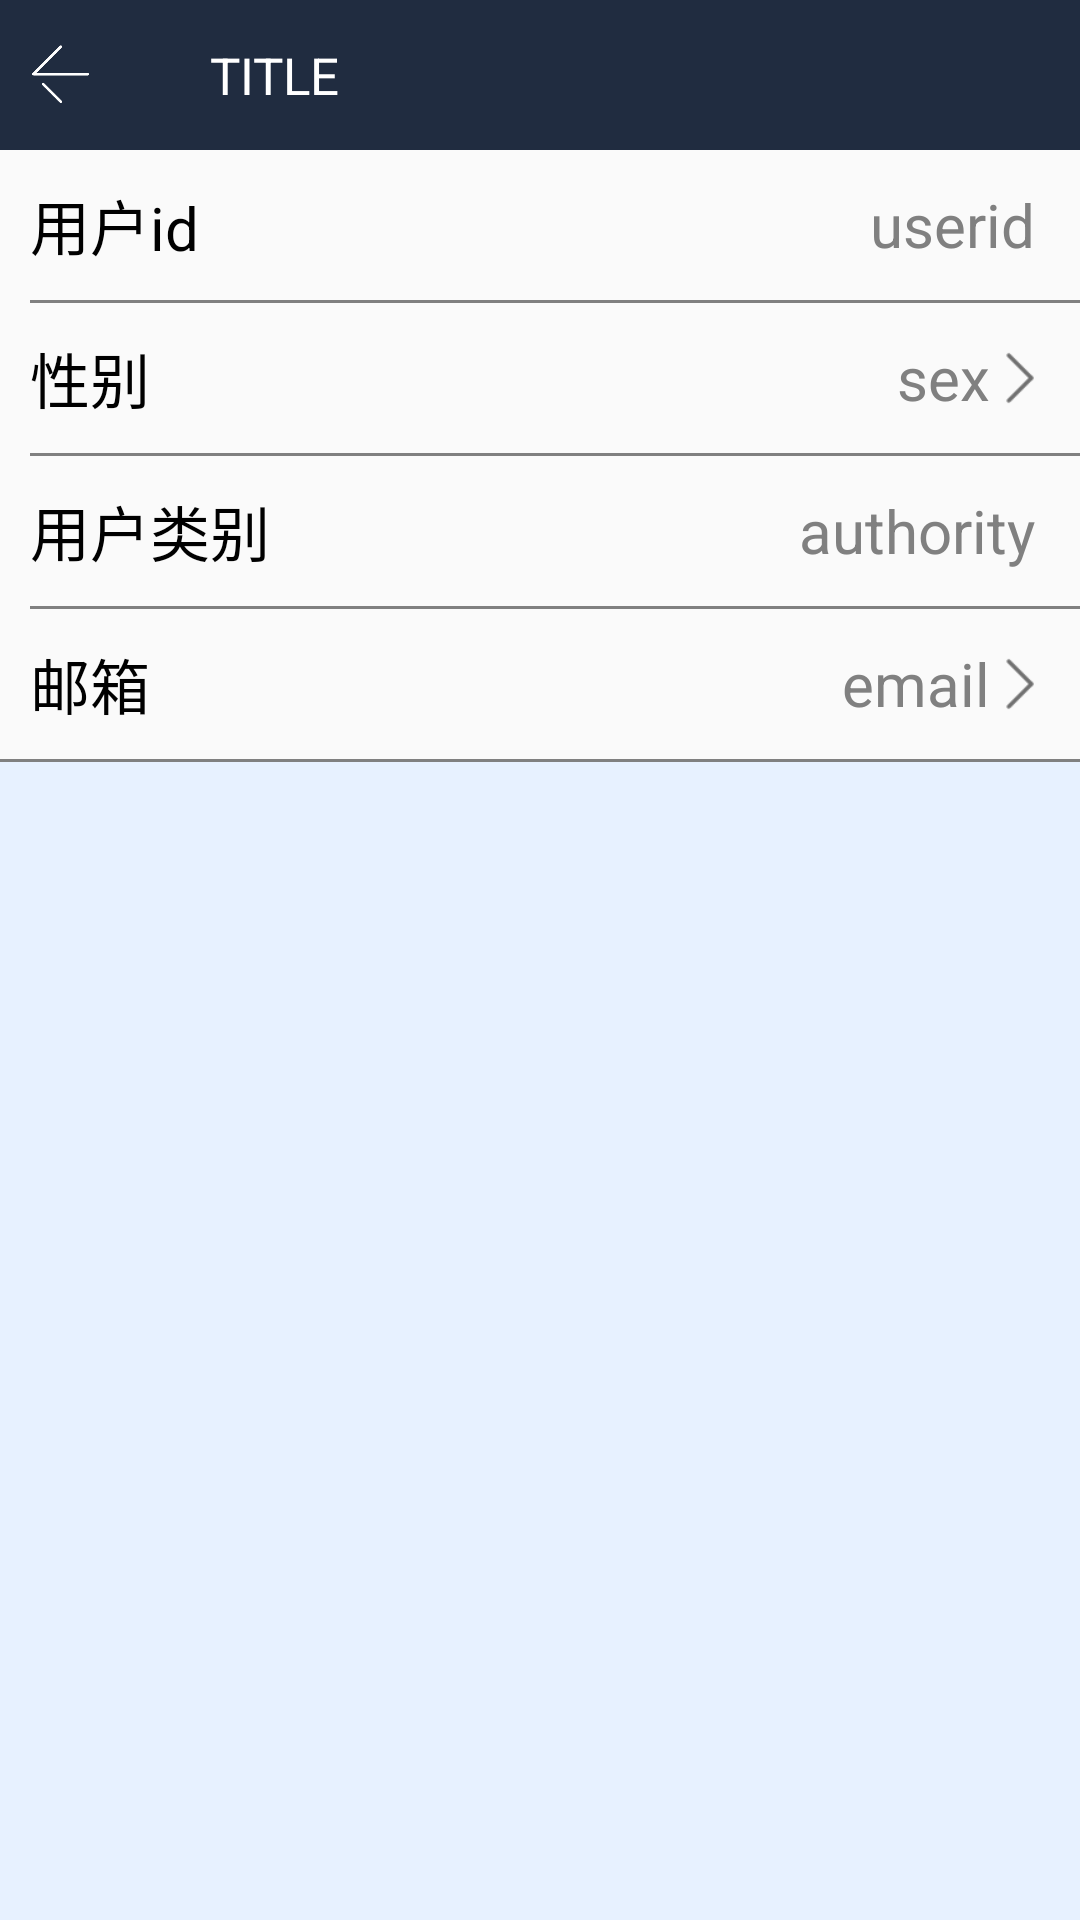

Icons on this 1080px x 1920px Android screen, each with its box as Rect(x1, y1, x2, y2):
arrow right: Rect(1006, 353, 1034, 403), Rect(1006, 659, 1034, 709)
back: Rect(32, 45, 89, 103)
